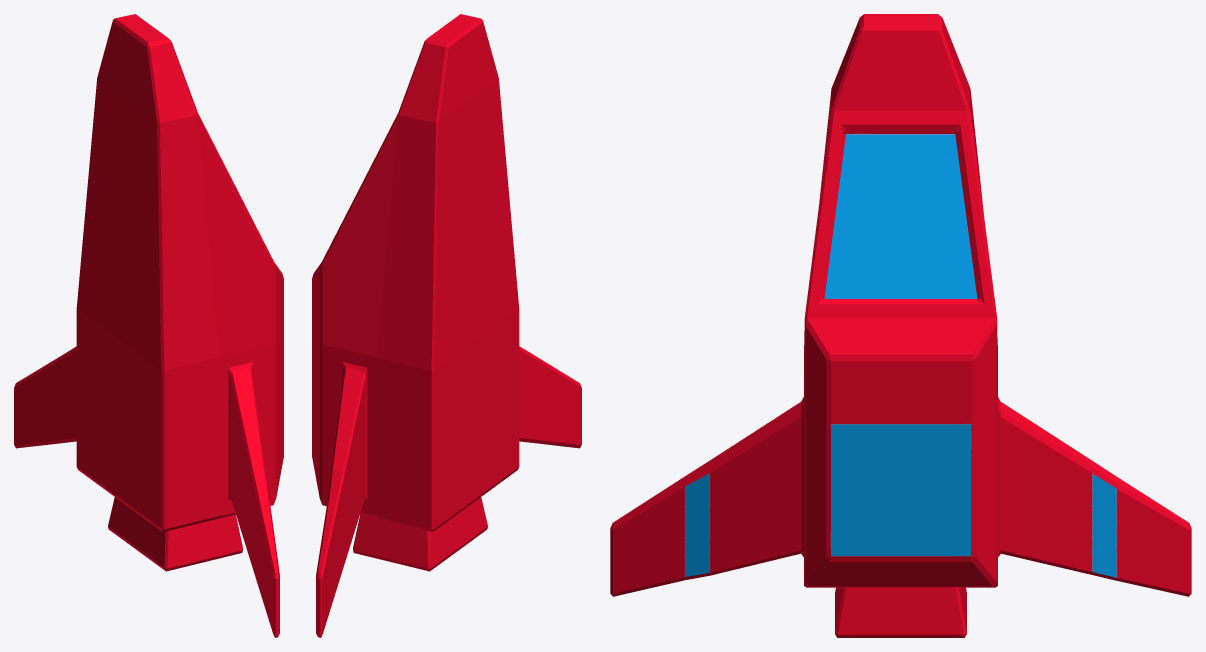
Rendered from RedShip43.fbx.
3 views of the same model, side by side, from view 1: azimuth 30°, elevation 25°; view 2: azimuth 150°, elevation 25°; view 3: azimuth 270°, elevation 25° (orthographic). The views are drawn at different scales.
Parts seen in each view (by area): view 1: Cube.003; view 2: Cube.003; view 3: Cube.003.
Part boxes in pixels (x1,y1,x2,y2): Cube.003: (14,14,283,637); Cube.003: (312,14,581,637); Cube.003: (610,14,1191,637).
Size of the model in its own units: 235 by 882 by 802.
Materials: 1 (1 with a texture image).
